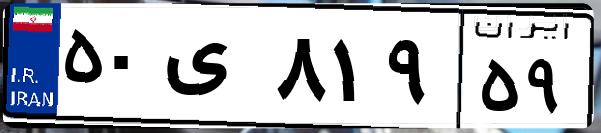0: (110, 28, 158, 98)
1: (330, 28, 385, 110)
5: (57, 26, 110, 100), (475, 38, 525, 113)
8: (270, 28, 330, 110)
9: (385, 28, 445, 110), (525, 38, 570, 115)
ی: (158, 20, 270, 120)
